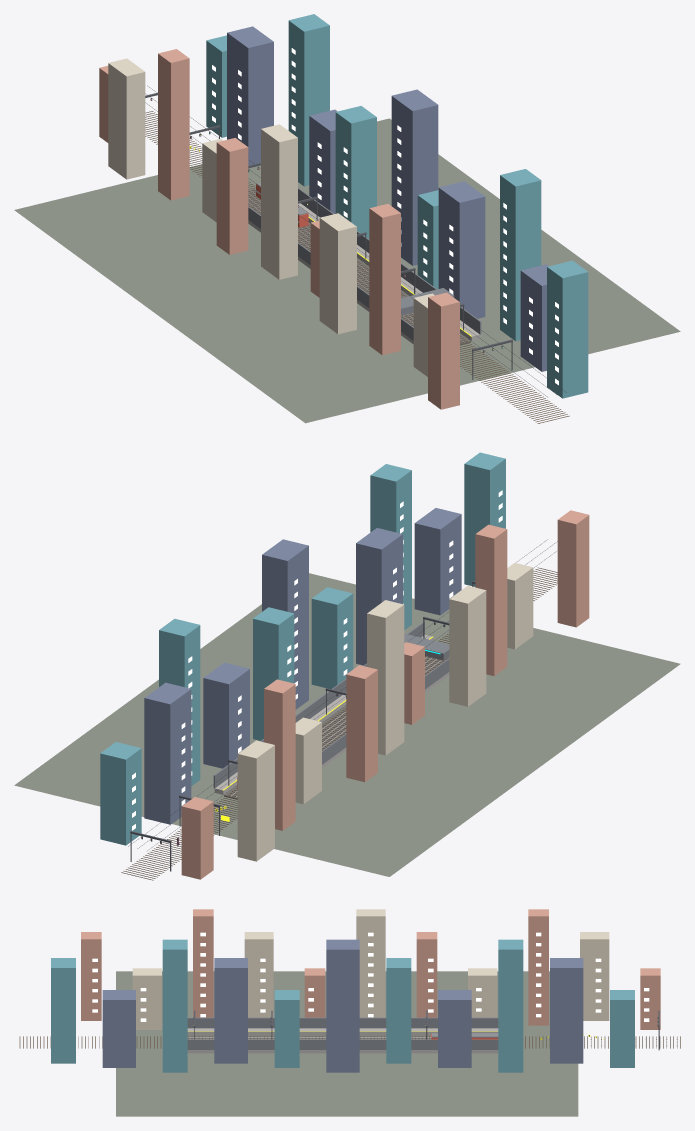
The model's file is environment_modular.glb.
3 views of the same model, one above another, from view 1: azimuth 30°, elevation 25°; view 2: azimuth 150°, elevation 25°; view 3: azimuth 270°, elevation 25° (orthographic). The views are drawn at different scales.
Visible parts, largest first — view 1: Global_Ground, City_Highrise_11, City_Highrise_15, City_Highrise_10, City_Highrise_21, City_Highrise_17, City_Highrise_03, City_Highrise_05, City_Highrise_04, City_Highrise_16, City_Highrise_09, City_Highrise_02 (+15 smaller); view 2: Global_Ground, City_Highrise_03, City_Highrise_10, City_Highrise_19, City_Highrise_11, City_Highrise_07, City_Highrise_02, City_Highrise_14, City_Highrise_15, City_Highrise_01, City_Highrise_13, City_Highrise_16 (+15 smaller); view 3: Global_Ground, City_Highrise_11, City_Highrise_03, City_Highrise_15, City_Highrise_05, City_Highrise_17, City_Highrise_10, City_Highrise_09, City_Highrise_07, City_Highrise_19, City_Highrise_21, City_Highrise_02 (+16 smaller).
Part boxes in pixels (left/top/right/bottom): Global_Ground: left=14, top=118, right=680, bottom=423; City_Highrise_11: left=391, top=89, right=438, bottom=265; City_Highrise_15: left=438, top=181, right=485, bottom=318; City_Highrise_10: left=261, top=124, right=297, bottom=279; City_Highrise_21: left=547, top=260, right=588, bottom=398; City_Highrise_17: left=500, top=169, right=541, bottom=341; City_Highrise_03: left=227, top=26, right=273, bottom=168; City_Highrise_05: left=288, top=14, right=329, bottom=186; City_Highrise_04: left=158, top=49, right=189, bottom=200; City_Highrise_16: left=369, top=204, right=400, bottom=355; City_Highrise_09: left=335, top=106, right=376, bottom=239; City_Highrise_02: left=108, top=58, right=145, bottom=179; Global_Ground: left=14, top=573, right=680, bottom=876; City_Highrise_03: left=144, top=682, right=191, bottom=824; City_Highrise_10: left=367, top=600, right=404, bottom=755; City_Highrise_19: left=414, top=508, right=461, bottom=615; City_Highrise_11: left=262, top=539, right=308, bottom=709; City_Highrise_07: left=203, top=662, right=249, bottom=768; City_Highrise_02: left=237, top=740, right=274, bottom=861; City_Highrise_14: left=449, top=585, right=486, bottom=706; City_Highrise_15: left=356, top=528, right=402, bottom=665; City_Highrise_01: left=100, top=742, right=141, bottom=845; City_Highrise_13: left=311, top=587, right=353, bottom=689; City_Highrise_16: left=475, top=524, right=507, bottom=675; Global_Ground: left=116, top=971, right=578, bottom=1116; City_Highrise_11: left=326, top=939, right=359, bottom=1072; City_Highrise_03: left=550, top=958, right=583, bottom=1063; City_Highrise_15: left=214, top=958, right=247, bottom=1063; City_Highrise_05: left=498, top=939, right=523, bottom=1072; City_Highrise_17: left=162, top=939, right=187, bottom=1072; City_Highrise_10: left=356, top=909, right=385, bottom=1017; City_Highrise_09: left=386, top=958, right=411, bottom=1063; City_Highrise_07: left=438, top=990, right=471, bottom=1067; City_Highrise_19: left=102, top=990, right=135, bottom=1067; City_Highrise_21: left=51, top=958, right=75, bottom=1063; City_Highrise_02: left=580, top=932, right=609, bottom=1020.
Bounding box in the file's own units: 80 × 31.9 × 155.
27 materials, 1 textured.
